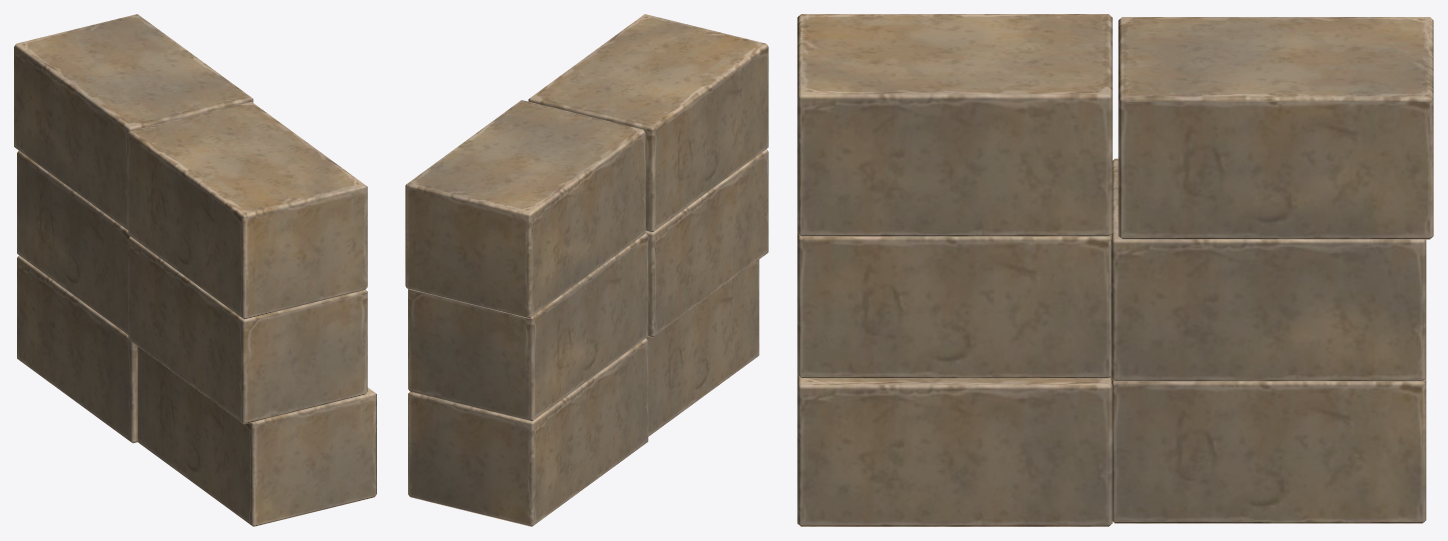
The model's file is SM_construction_block_03.glb.
The picture shows the model from 3 angles, left to right: view 1: azimuth 30°, elevation 25°; view 2: azimuth 150°, elevation 25°; view 3: azimuth 270°, elevation 25°; orthographic projection. The views are drawn at different scales.
Parts seen in each view (by area): view 1: SM_construction_block_03; view 2: SM_construction_block_03; view 3: SM_construction_block_03.
Part boxes in pixels (x1,y1,x2,y2): SM_construction_block_03: (14,14,376,526); SM_construction_block_03: (405,14,768,526); SM_construction_block_03: (797,14,1433,526).
Size of the model in its own units: 1.61 by 3.59 by 4.84.
1 material, 1 textured.
